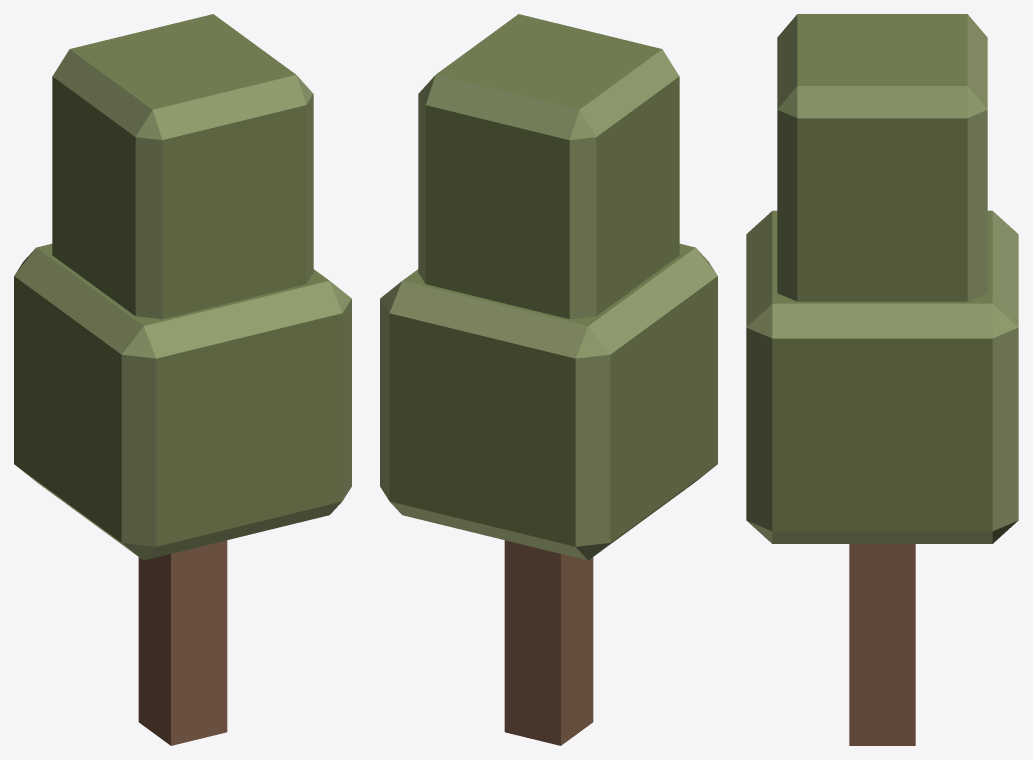
File: voxel_tree_9.fbx
3 views of the same model, side by side, from view 1: azimuth 30°, elevation 25°; view 2: azimuth 150°, elevation 25°; view 3: azimuth 270°, elevation 25° (orthographic). The views are drawn at different scales.
Visible parts, largest first — view 1: voxel_tree_9; view 2: voxel_tree_9; view 3: voxel_tree_9.
Boxes of the visible parts, x1,y1,x2,y2 form: voxel_tree_9: [14, 14, 351, 745]; voxel_tree_9: [380, 14, 717, 745]; voxel_tree_9: [746, 14, 1018, 745].
Size of the model in its own units: 184 by 509 by 184.
